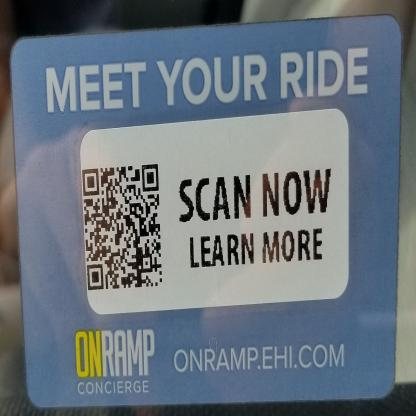qr: (79, 162, 169, 289)
